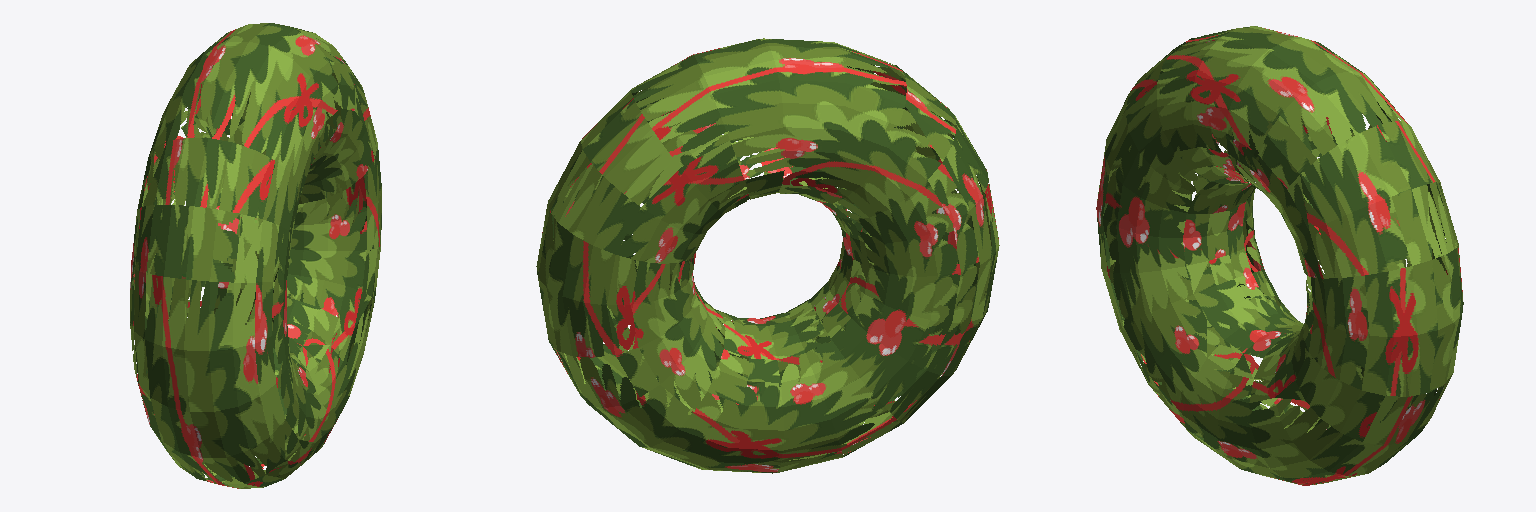
3 renders of one model, left to right at view 1: azimuth 30°, elevation 25°; view 2: azimuth 150°, elevation 25°; view 3: azimuth 270°, elevation 25°, orthographic.
Visible parts, largest first — view 1: pTorus1; view 2: pTorus1; view 3: pTorus1.
Boxes of the visible parts, <box> form: pTorus1: <box>130,23,381,488</box>; pTorus1: <box>536,38,999,473</box>; pTorus1: <box>1096,26,1463,485</box>.
Size of the model in its own units: 247 by 300 by 234.
Materials: 1 (1 with a texture image).